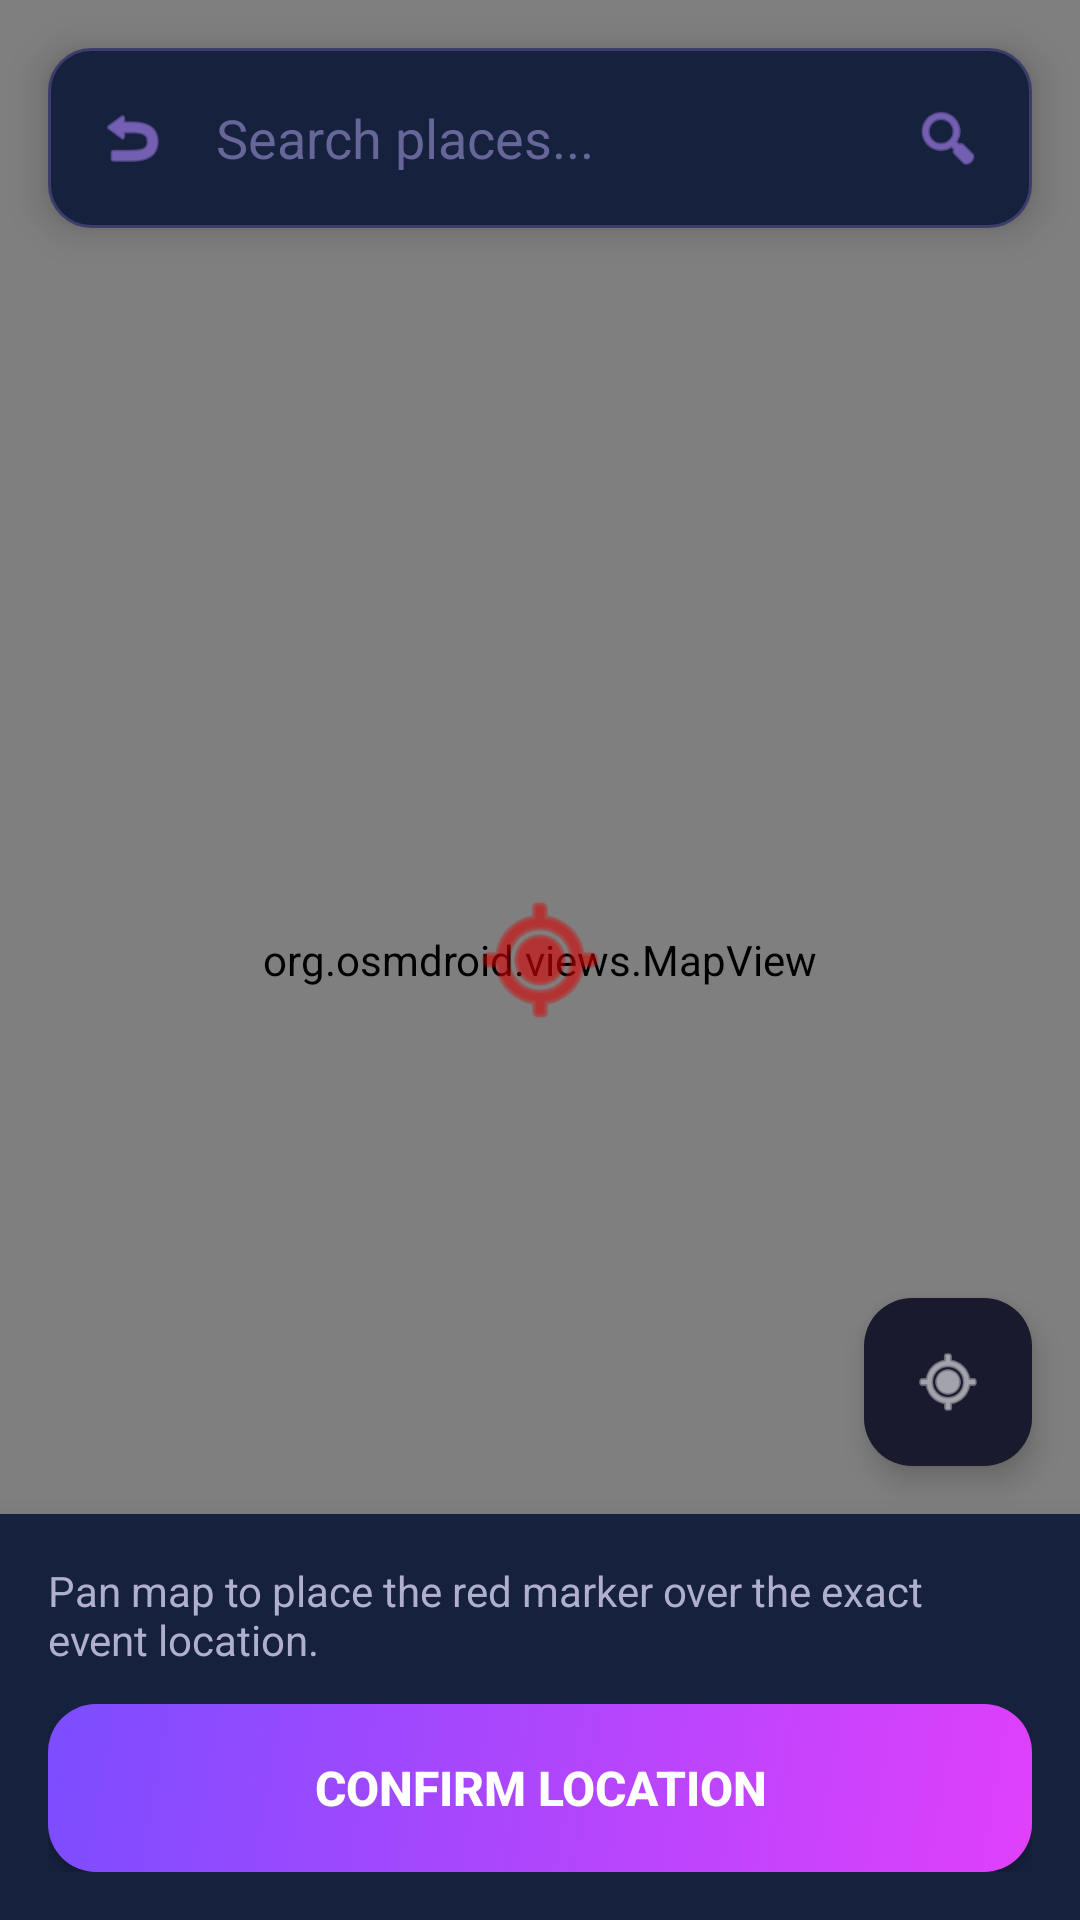

Point at icon controls on the screen. Image size 1080px x 1920px, points as (x=x, y=y).
revert: (x=133, y=138)
